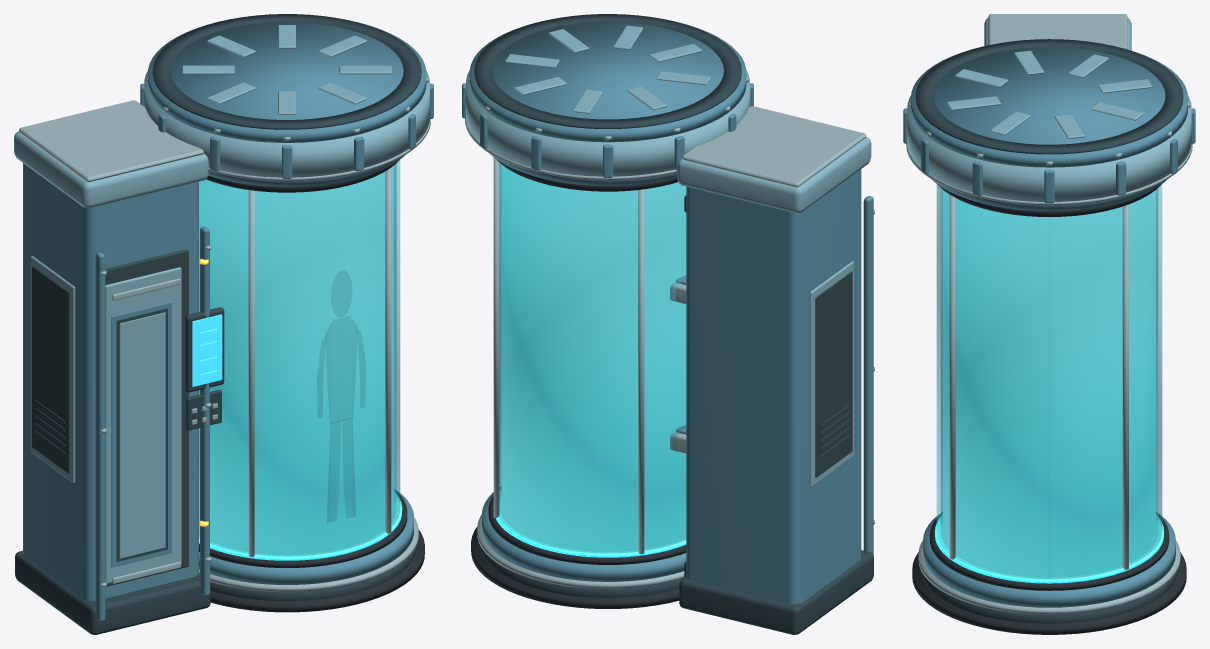
Rendered from BlueTube_FaintOccupant_StudioTextured.glb.
The picture shows the model from 3 angles, left to right: view 1: azimuth 30°, elevation 25°; view 2: azimuth 150°, elevation 25°; view 3: azimuth 270°, elevation 25°; orthographic projection.
Parts seen in each view (by area): view 1: Tube_Glossy_cobalt_blue_enamel, Tube_Cyan_glass_shell, Tube_Cyan_energy_core, Tube_Worn_light_blue_panels, Tube_Recessed_graphite, Tube_Polished_steel_edge, Tube_Dark_rubber_gasket, Tube_Diagnostic_screen, Tube_Indicator_bright_cyan; view 2: Tube_Glossy_cobalt_blue_enamel, Tube_Cyan_glass_shell, Tube_Cyan_energy_core, Tube_Recessed_graphite, Tube_Worn_light_blue_panels, Tube_Polished_steel_edge, Tube_Dark_rubber_gasket, Tube_Indicator_bright_cyan; view 3: Tube_Cyan_glass_shell, Tube_Cyan_energy_core, Tube_Glossy_cobalt_blue_enamel, Tube_Worn_light_blue_panels, Tube_Polished_steel_edge, Tube_Recessed_graphite, Tube_Dark_rubber_gasket, Tube_Indicator_bright_cyan.
Boxes of the visible parts, box(x1,y1,x2,y2) form: Tube_Glossy_cobalt_blue_enamel: box(23, 19, 433, 621); Tube_Cyan_glass_shell: box(199, 160, 400, 556); Tube_Cyan_energy_core: box(199, 165, 393, 553); Tube_Worn_light_blue_panels: box(14, 25, 429, 583); Tube_Recessed_graphite: box(15, 14, 421, 634); Tube_Polished_steel_edge: box(19, 76, 430, 592); Tube_Dark_rubber_gasket: box(199, 160, 424, 612); Tube_Diagnostic_screen: box(192, 314, 222, 386); Tube_Indicator_bright_cyan: box(199, 328, 402, 560); Tube_Glossy_cobalt_blue_enamel: box(462, 19, 873, 604); Tube_Cyan_glass_shell: box(499, 163, 686, 553); Tube_Cyan_energy_core: box(501, 165, 686, 550); Tube_Recessed_graphite: box(474, 14, 873, 634); Tube_Worn_light_blue_panels: box(466, 25, 871, 486); Tube_Polished_steel_edge: box(465, 76, 874, 588); Tube_Dark_rubber_gasket: box(471, 159, 686, 608); Tube_Indicator_bright_cyan: box(495, 490, 686, 557); Tube_Cyan_glass_shell: box(936, 184, 1162, 578); Tube_Cyan_energy_core: box(943, 190, 1155, 576); Tube_Glossy_cobalt_blue_enamel: box(903, 46, 1195, 607); Tube_Worn_light_blue_panels: box(907, 18, 1191, 201); Tube_Polished_steel_edge: box(906, 14, 1192, 614); Tube_Recessed_graphite: box(915, 39, 1183, 623); Tube_Dark_rubber_gasket: box(912, 184, 1186, 634); Tube_Indicator_bright_cyan: box(935, 515, 1163, 583).
Bounding box in the file's own units: 9.44 × 12.1 × 6.63.
11 materials, 11 textured.
